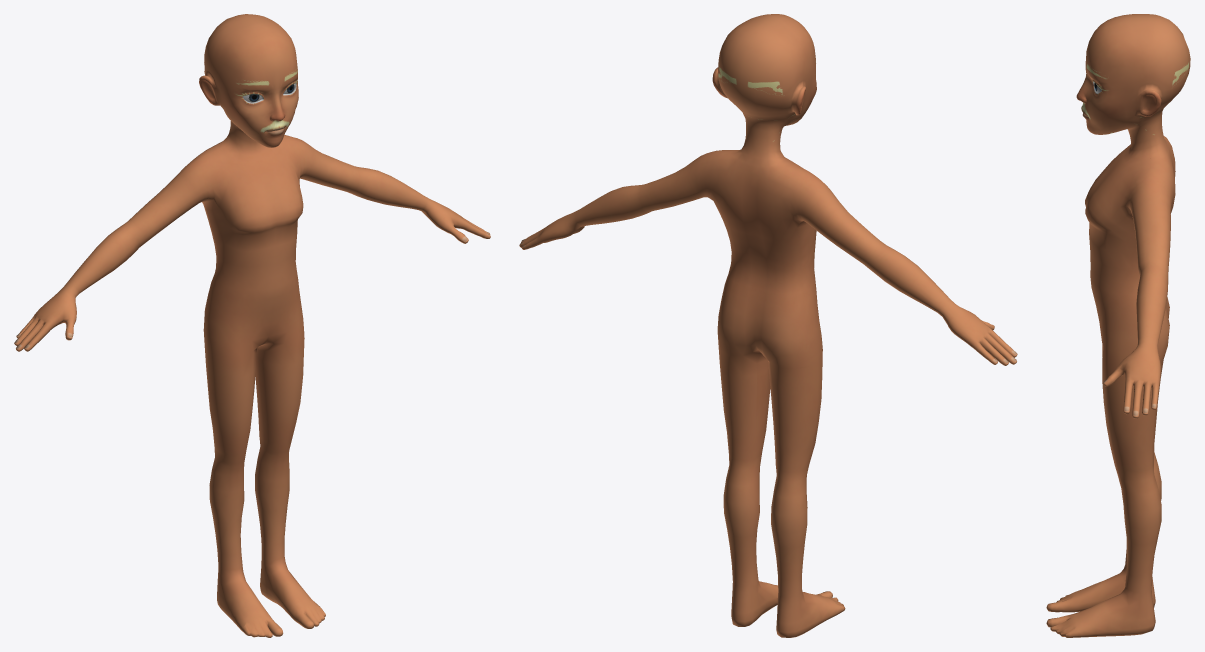
File: frame_0007.glb
3 views of the same model, side by side, from view 1: azimuth 30°, elevation 25°; view 2: azimuth 150°, elevation 25°; view 3: azimuth 270°, elevation 25° (orthographic). The views are drawn at different scales.
Visible parts, largest first — view 1: frame_0007_head_geo; view 2: frame_0007_head_geo; view 3: frame_0007_head_geo.
Part boxes in pixels (x1,y1,x2,y2): frame_0007_head_geo: [14, 14, 490, 637]; frame_0007_head_geo: [519, 14, 1017, 637]; frame_0007_head_geo: [1046, 14, 1190, 637].
Bounding box in the file's own units: 1.28 × 1.5 × 0.3253.
Materials: 4 (2 with a texture image).
